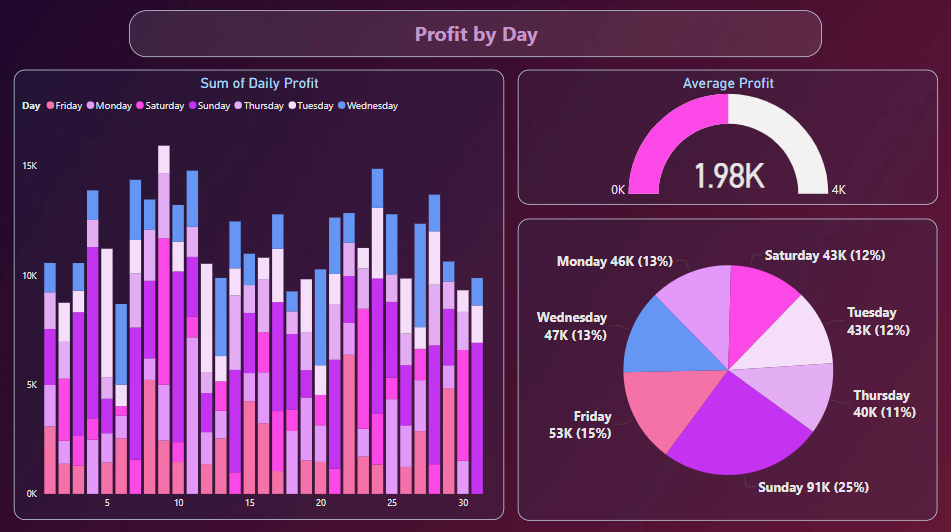

This screenshot's page, from the dashboard's own definition file:
{"tool":"powerbi","page":{"name":"Page 2","canvas":[1280,720],"ordinal":1},"visuals":[{"type":"columnChart","title":"Sum of Daily Profit ","fields":{"Category":["Sales_data.Date.Variation.Date Hierarchy.Day"],"Y":["Sum(Sales_data.Profit)"],"Series":["Sales_data.Day"]},"box":[22.7,95.5,655.2,602.1],"z":0},{"type":"textbox","box":[177.1,17.1,925.7,62.9],"z":1000},{"type":"pieChart","fields":{"Y":["Sum(Sales_data.Profit)"],"Category":["Sales_data.Day"]},"box":[696.1,294.2,561.1,403.4],"z":2000},{"type":"gauge","title":"Average Profit","fields":{"Y":["Avg(Sales_data.Profit)"]},"box":[696,96,561.3,180],"z":3000}]}

Visuals, with their boxes in screenshot pixels (x1, y1, x2, y2), scaled from the page's 1280x720 canvas onto the 951x532 screenshot:
"Sum of Daily Profit " columnChart: bbox(17, 71, 504, 515)
textbox: bbox(132, 13, 819, 59)
pieChart - Sum(Sales_data.Profit) x Sales_data.Day: bbox(517, 217, 934, 515)
"Average Profit" gauge: bbox(517, 71, 934, 204)
